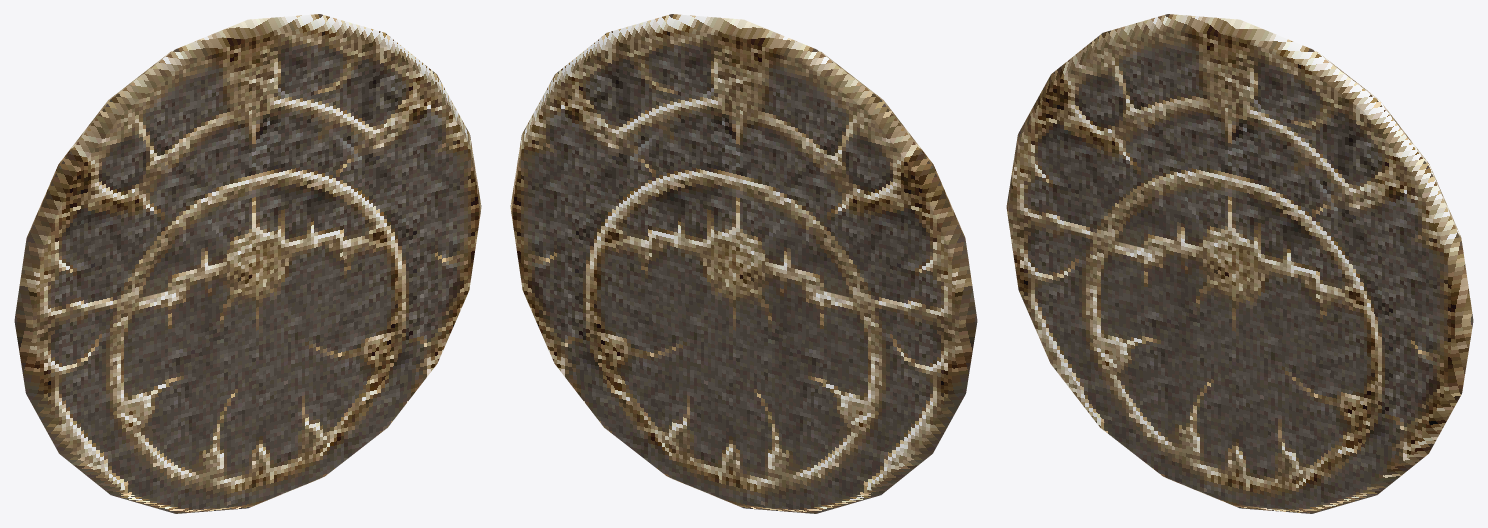
File: ps2_save-icons_princeofpersiasandsoftime.glb
3 views of the same model, side by side, from view 1: azimuth 30°, elevation 25°; view 2: azimuth 150°, elevation 25°; view 3: azimuth 330°, elevation 25° (orthographic).
Parts seen in each view (by area): view 1: view.ico; view 2: view.ico; view 3: view.ico.
Boxes of the visible parts, x1,y1,x2,y2 form: view.ico: [14, 14, 481, 513]; view.ico: [510, 14, 977, 513]; view.ico: [1006, 14, 1473, 513].
Size of the model in its own units: 4.27 by 4.27 by 0.25.
1 material, 1 textured.
